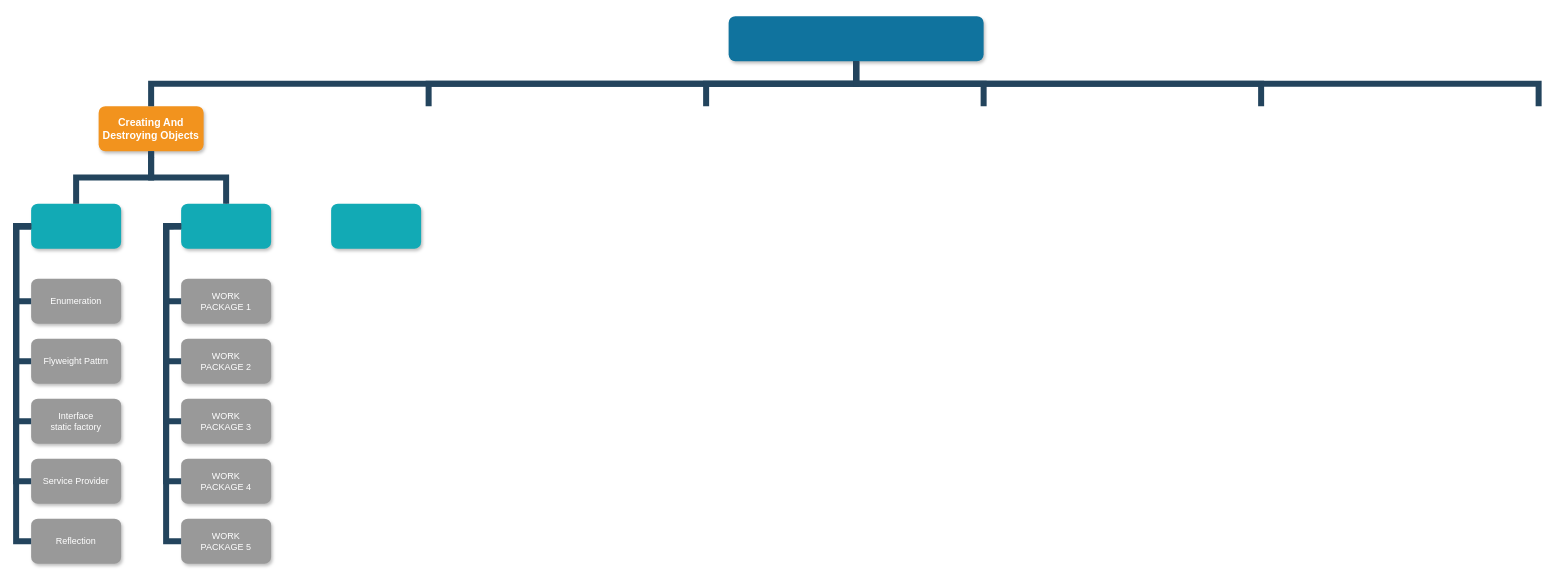
Some shapes in this 1555 by 581 pixel diagram are drawn without their labels. Each missing label, with the centre of its shape:
"Item01" goes at [76,227].
"Item02" goes at [226,227].
"Item03" goes at [376,227].
"MAIN PROJECT" goes at [856,39].
